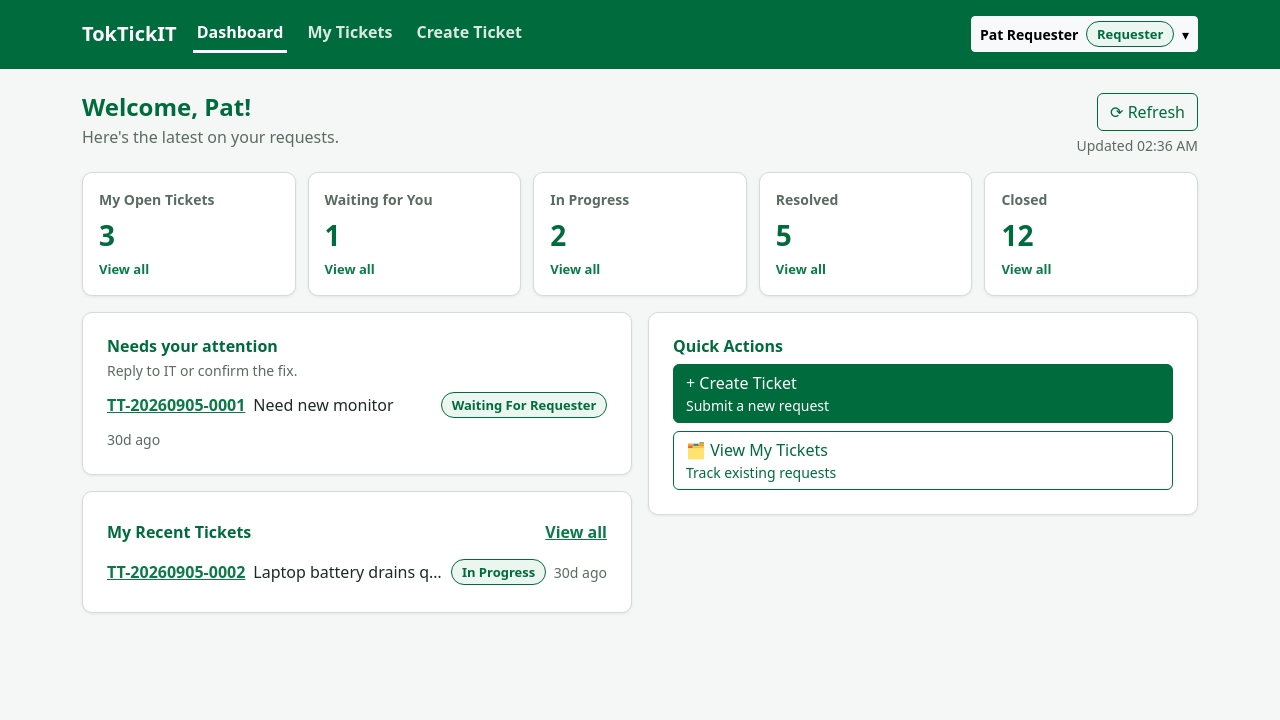
Test case: Requester Dashboard — metric cards, lists, and drill-down (AC-25) › opens My Tickets with the 'open' alias for My Open Tickets
Check: the heading "Welcome, Pat!" is shown, box [82,90,251,123]
Click the button with aria-label "My Open Tickets: 3, view all" at {"x": 189, "y": 234}, box [82,172,296,296]
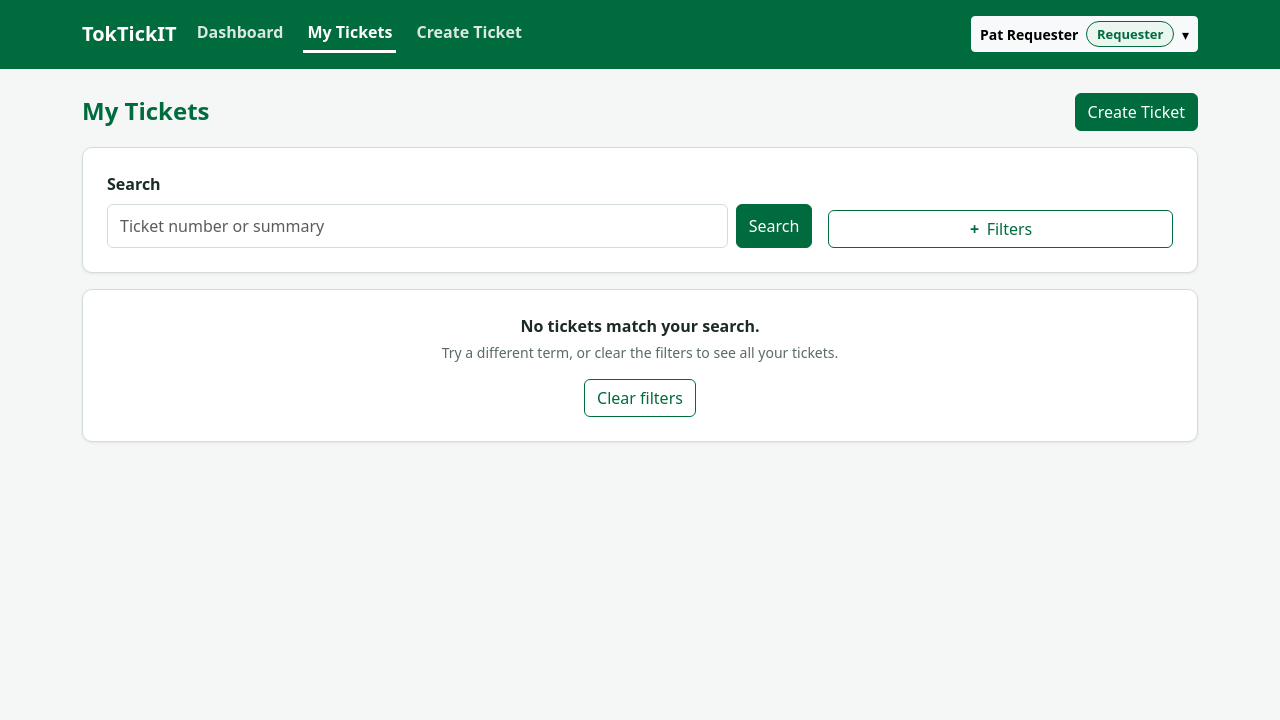
Check: the heading "My Tickets" is shown, box [82,97,210,126]
